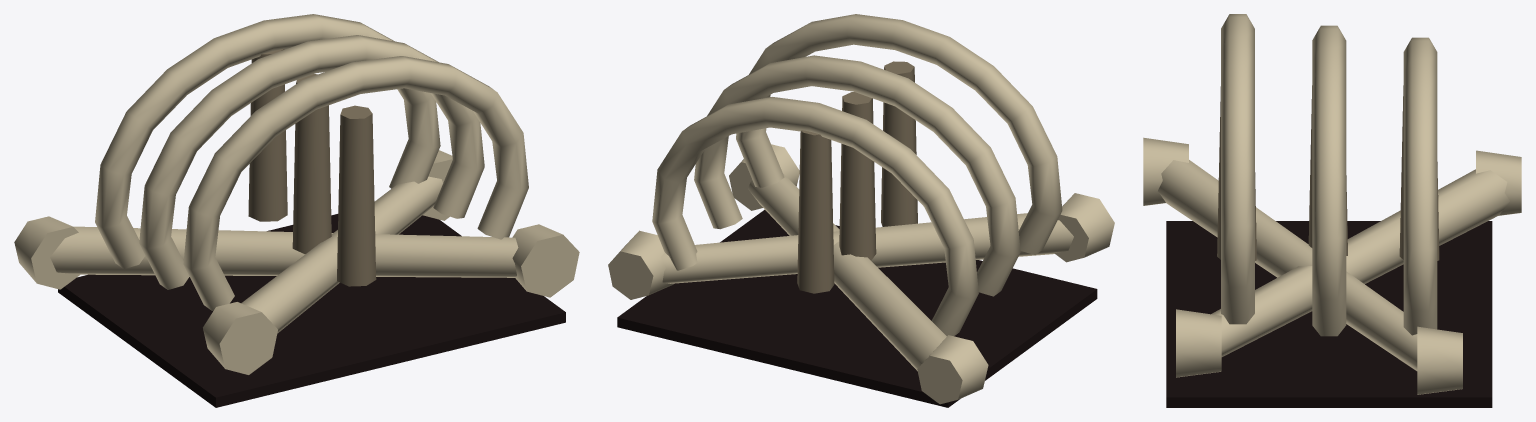
The model's file is sk_bone_pile.glb.
The picture shows the model from 3 angles, left to right: view 1: azimuth 30°, elevation 25°; view 2: azimuth 150°, elevation 25°; view 3: azimuth 270°, elevation 25°; orthographic projection. The views are drawn at different scales.
Parts seen in each view (by area): view 1: plaster, object 2; view 2: plaster, object 2; view 3: plaster, object 2.
Part boxes in pixels (left/top/right/bottom): plaster: left=14, top=14, right=579, bottom=374; object 2: left=58, top=214, right=565, bottom=407; plaster: left=608, top=14, right=1114, bottom=404; object 2: left=617, top=209, right=1097, bottom=407; plaster: left=1143, top=14, right=1521, bottom=394; object 2: left=1166, top=221, right=1492, bottom=407.
Bounding box in the file's own units: 0.7572 × 0.4795 × 0.58.
